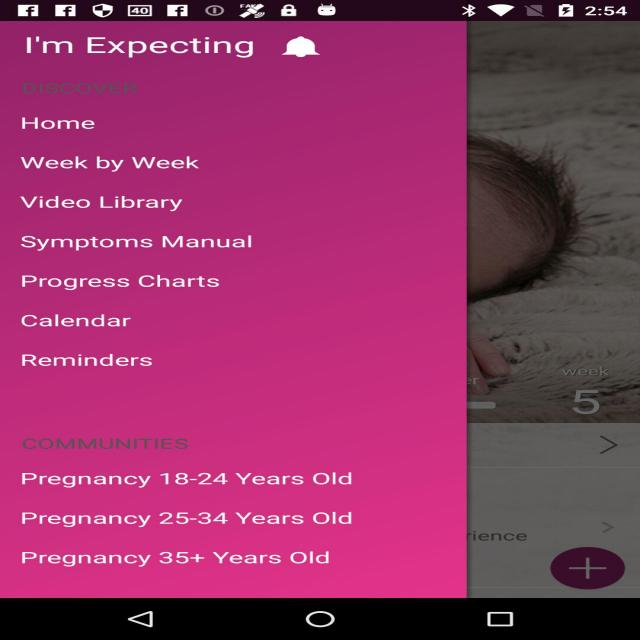text: (12, 29, 448, 586)
